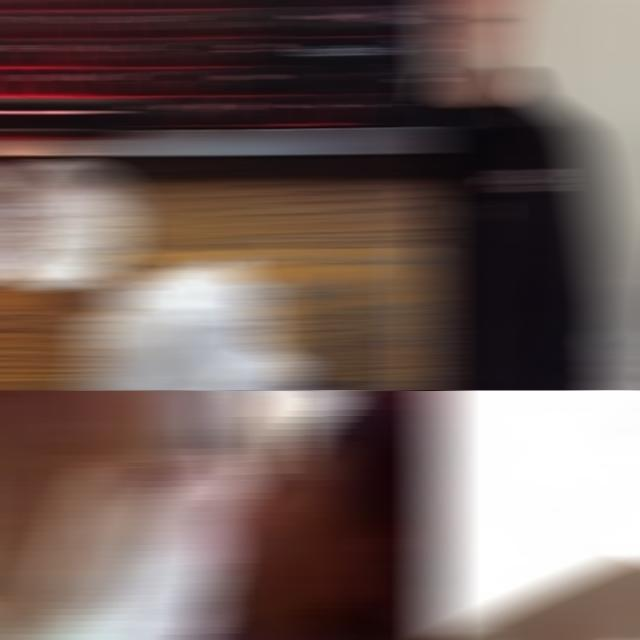Knife: (434, 558, 640, 640)
Knife_Handle: (54, 390, 243, 640), (424, 435, 640, 640)
